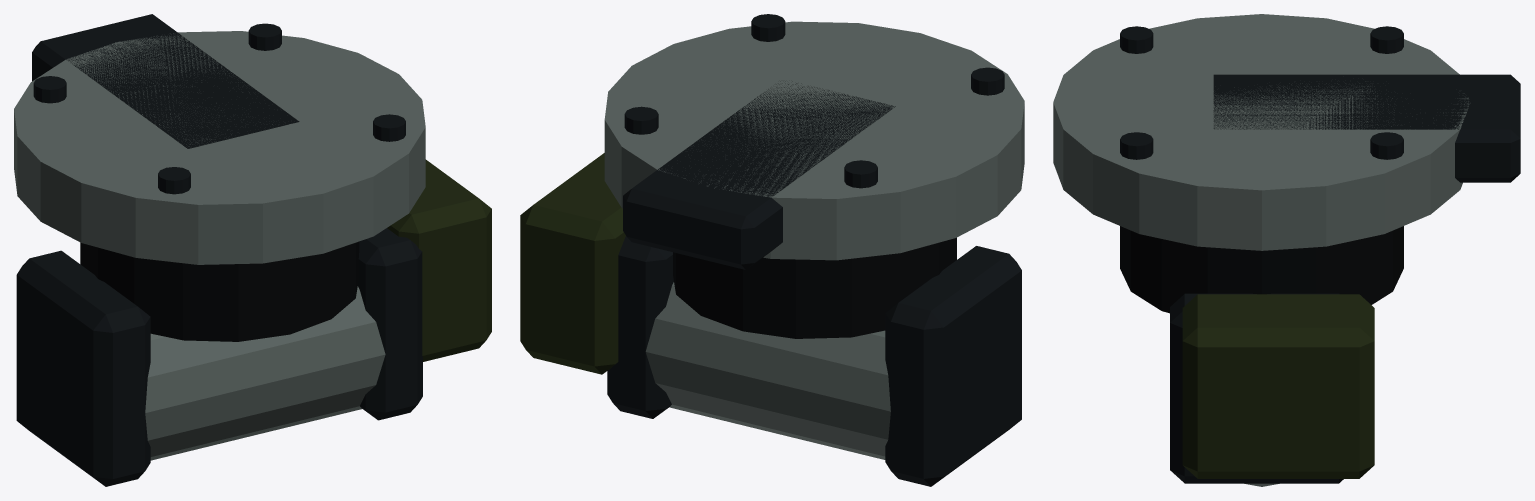
File: ChinMount.obj
3 views of the same model, side by side, from view 1: azimuth 30°, elevation 25°; view 2: azimuth 150°, elevation 25°; view 3: azimuth 270°, elevation 25° (orthographic). The views are drawn at different scales.
Parts seen in each view (by area): view 1: Fixed_fuselage_ring, Elevation_cheek, Pitch_drum, Yaw_motor, Mount_lug, Elevation_servo, Elevation_cheek.001, Fixed_ring_fastener.002, Fixed_ring_fastener, Fixed_ring_fastener.003, Fixed_ring_fastener.001; view 2: Fixed_fuselage_ring, Elevation_cheek, Mount_lug, Pitch_drum, Elevation_servo, Yaw_motor, Elevation_cheek.001, Fixed_ring_fastener.003, Fixed_ring_fastener.002, Fixed_ring_fastener, Fixed_ring_fastener.001; view 3: Fixed_fuselage_ring, Elevation_servo, Mount_lug, Yaw_motor, Elevation_cheek.001, Fixed_ring_fastener, Fixed_ring_fastener.001, Fixed_ring_fastener.003, Fixed_ring_fastener.002.
Part boxes in pixels (x1=…): Fixed_fuselage_ring: x1=14, y1=31, x2=425, y2=264; Elevation_cheek: x1=16, y1=250, x2=150, y2=486; Pitch_drum: x1=145, y1=286, x2=385, y2=460; Yaw_motor: x1=80, y1=241, x2=359, y2=341; Mount_lug: x1=32, y1=14, x2=299, y2=148; Elevation_servo: x1=387, y1=159, x2=491, y2=361; Elevation_cheek.001: x1=358, y1=228, x2=422, y2=420; Fixed_ring_fastener.002: x1=248, y1=23, x2=281, y2=50; Fixed_ring_fastener: x1=33, y1=76, x2=66, y2=103; Fixed_ring_fastener.003: x1=373, y1=114, x2=405, y2=141; Fixed_ring_fastener.001: x1=158, y1=167, x2=190, y2=194; Fixed_fuselage_ring: x1=604, y1=21, x2=1024, y2=260; Elevation_cheek: x1=885, y1=246, x2=1021, y2=486; Mount_lug: x1=623, y1=81, x2=895, y2=269; Pitch_drum: x1=645, y1=282, x2=890, y2=459; Elevation_servo: x1=520, y1=153, x2=625, y2=374; Yaw_motor: x1=673, y1=237, x2=956, y2=338; Elevation_cheek.001: x1=607, y1=236, x2=673, y2=418; Fixed_ring_fastener.003: x1=751, y1=14, x2=785, y2=41; Fixed_ring_fastener.002: x1=624, y1=106, x2=658, y2=134; Fixed_ring_fastener: x1=844, y1=160, x2=877, y2=188; Fixed_ring_fastener.001: x1=971, y1=67, x2=1004, y2=95; Fixed_fuselage_ring: x1=1053, y1=14, x2=1470, y2=250; Elevation_servo: x1=1182, y1=294, x2=1374, y2=478; Mount_lug: x1=1213, y1=74, x2=1520, y2=182; Yaw_motor: x1=1120, y1=226, x2=1403, y2=313; Elevation_cheek.001: x1=1170, y1=293, x2=1343, y2=483; Fixed_ring_fastener: x1=1370, y1=26, x2=1403, y2=53; Fixed_ring_fastener.001: x1=1120, y1=26, x2=1153, y2=53; Fixed_ring_fastener.003: x1=1120, y1=132, x2=1153, y2=159; Fixed_ring_fastener.002: x1=1370, y1=132, x2=1403, y2=159.
Bounding box in the file's own units: 0.585 × 0.441 × 0.56.
